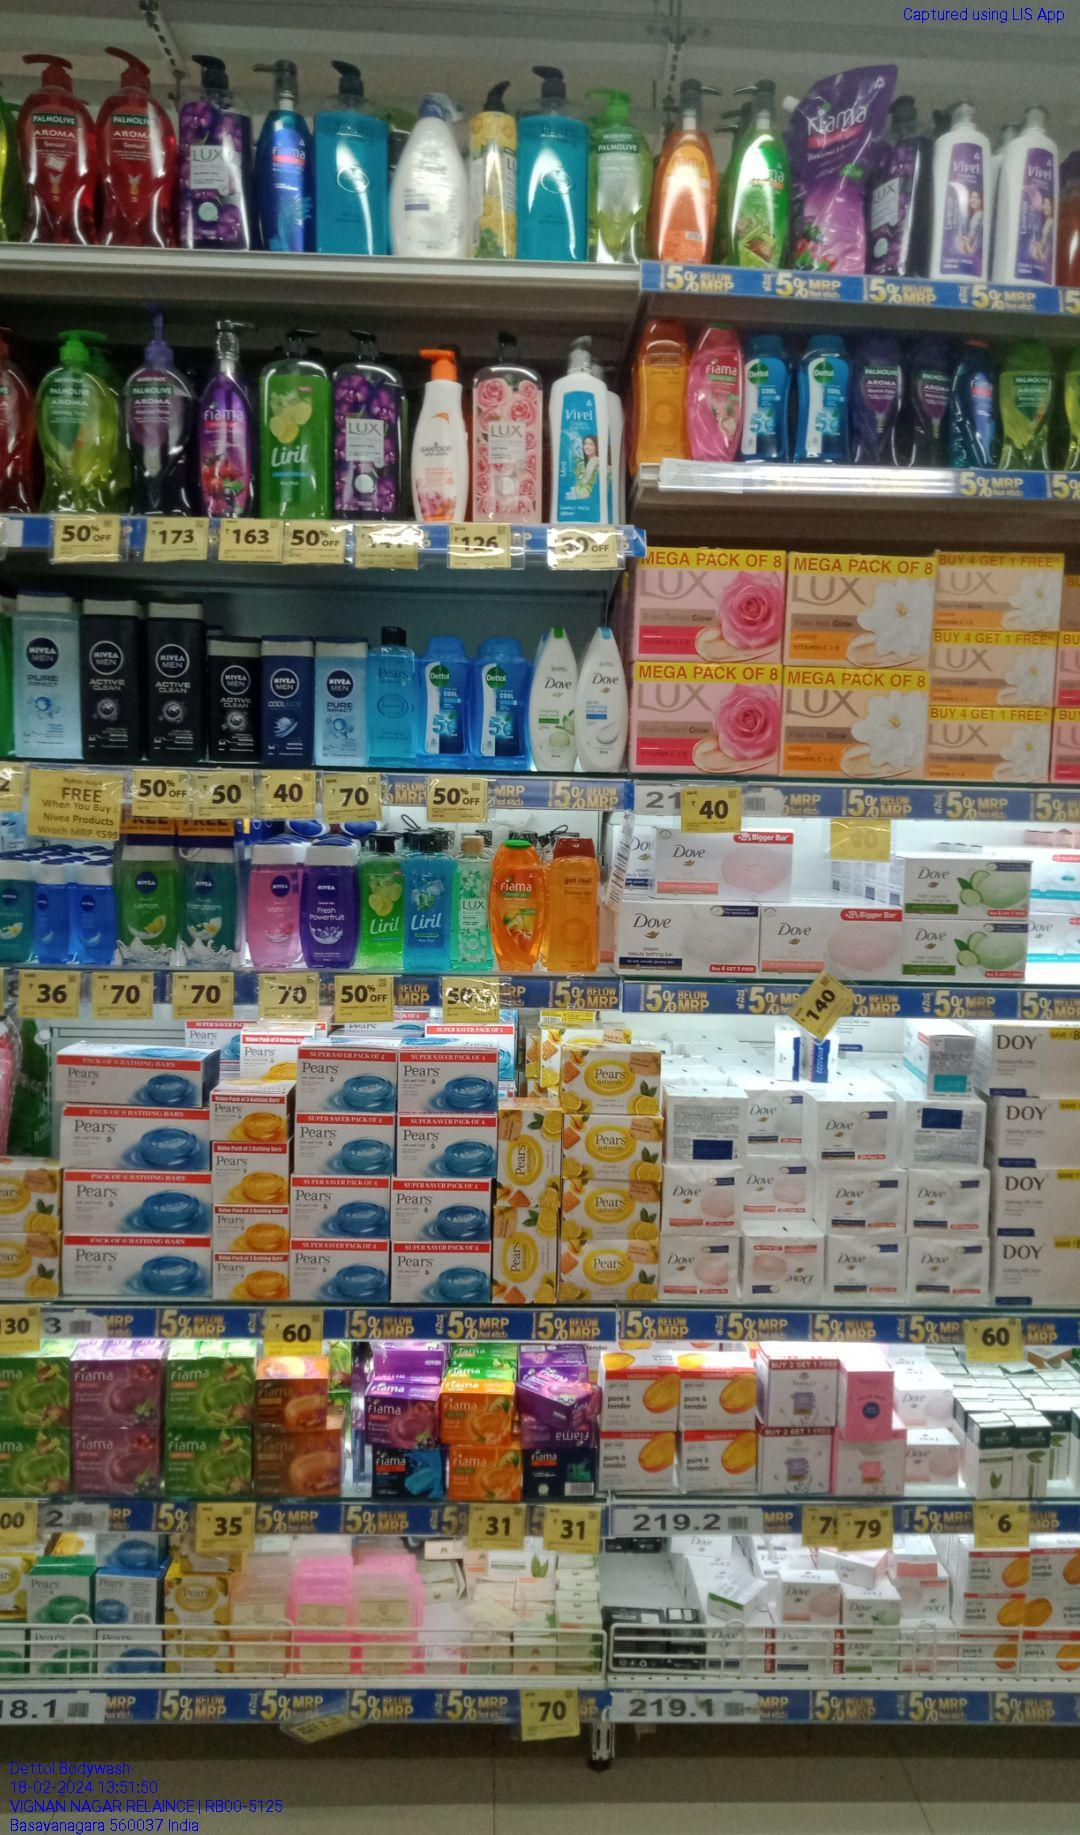Dettol_Bodywash_Cool: (471, 637, 525, 768), (798, 328, 847, 463), (746, 325, 791, 463), (417, 636, 464, 757)
Dove_Gentle_Exfoliating_Body_Wash_250ML: (582, 625, 627, 772)
Dove_Refreshing_Body_Wash_250ML: (528, 627, 581, 774)
Fiama_Shower_Gel_Patchouli_and_Macadamia_250ML: (689, 319, 744, 459)
Fiama_Shower_Gel_Peach_and_Avocado_250ML: (492, 837, 549, 974)
Get_Real_Shower_Gel_Moisturising_Glycerin_300ML: (636, 317, 685, 463), (549, 837, 600, 971)
Liril_Cooling_Mint_Body_Wash_250ML: (408, 828, 454, 971)
Liril_Lime_and_Tea_Tree_Oil_Body_Wash_250ML: (357, 831, 402, 965)
Lux_Body_Wash_Skin_Detox_Freesia_Scent_and_Alove_Vera_245ML: (456, 831, 491, 974)
Nivea_Shower_Gel_Frangipani_and_Oil_250ML: (180, 844, 234, 941)
Nivea_Shower_Gel_Fresh_Powerfruit_250ML: (305, 844, 355, 966)
Nivea_Shower_Gel_Lemon_and_Oil_250ML: (120, 844, 175, 943)
Nivea_Shower_Gel_Waterlily_and_Oil_250ML: (244, 843, 298, 969)
Palmolive_Aroma_Morning_Tonic_Shower_Gel_250ML: (1002, 335, 1048, 473)
Palmolive_Aroma_Relax_250ML: (850, 337, 904, 465), (909, 335, 946, 464)
Pears_Pure_Glycerin_and_Mint_Extracts_Body_Wash_250ML: (369, 628, 414, 761)
